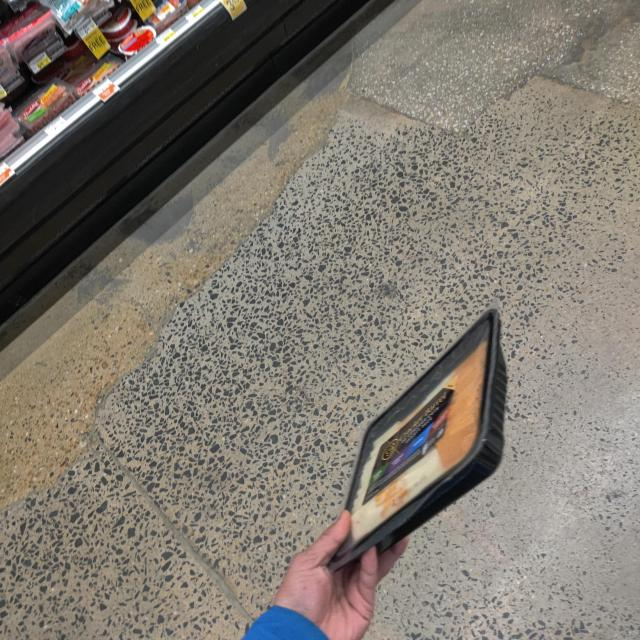Cheese: (336, 312, 508, 568)
